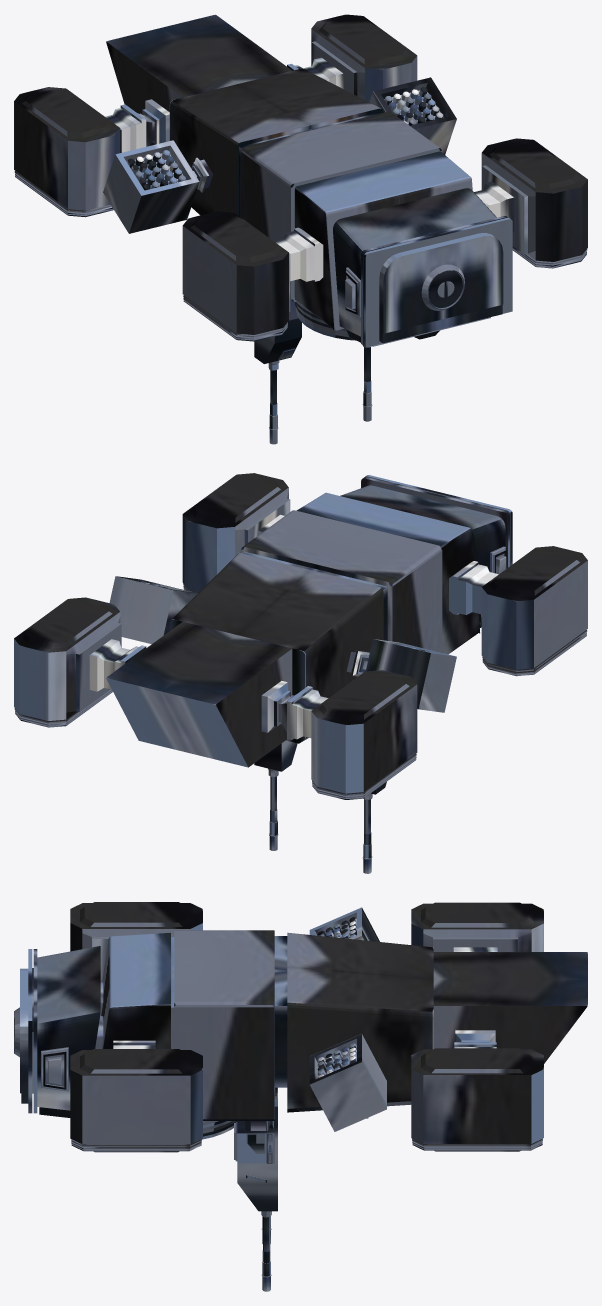
The model's file is Boss_GunShip.fbx.
3 views of the same model, one above another, from view 1: azimuth 30°, elevation 25°; view 2: azimuth 150°, elevation 25°; view 3: azimuth 270°, elevation 25° (orthographic).
Parts seen in each view (by area): view 1: Body, RocketPod, UnderCannon, UnderCannonPivot; view 2: Body, RocketPod, UnderCannon; view 3: Body, RocketPod, UnderCannon.
Part boxes in pixels (x1,y1,x2,y2): Body: (14, 14, 587, 347); RocketPod: (103, 77, 456, 233); UnderCannon: (254, 299, 372, 444); UnderCannonPivot: (294, 301, 355, 340); Body: (14, 473, 587, 799); RocketPod: (109, 576, 456, 712); UnderCannon: (254, 740, 386, 873); Body: (14, 902, 587, 1152); RocketPod: (309, 907, 386, 1131); UnderCannon: (234, 1087, 277, 1291).
Size of the model in its own units: 5.35 by 4.35 by 7.52.
5 materials, 5 textured.
